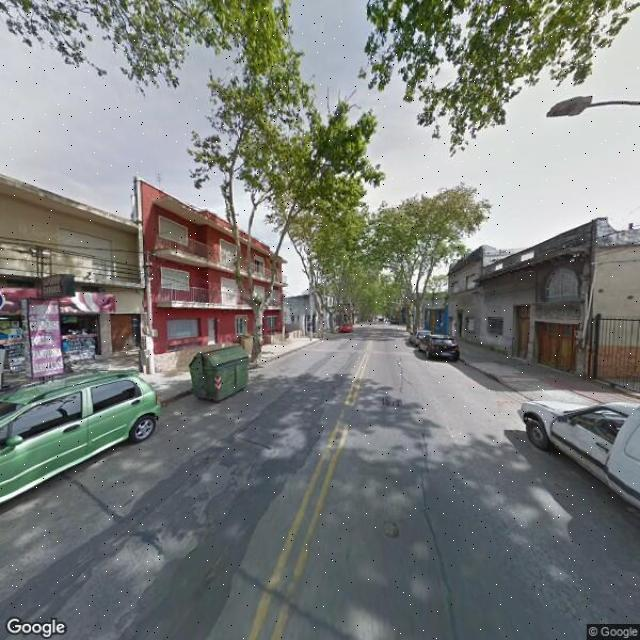garbage container: (187, 341, 260, 414)
